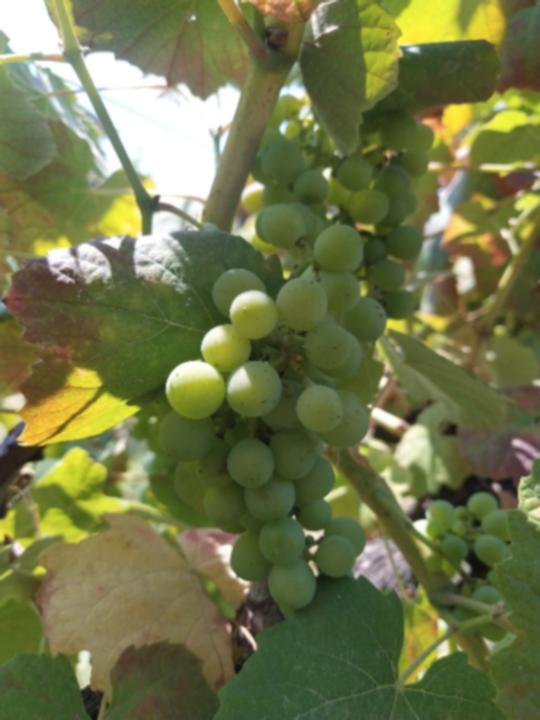grape: (162, 221, 390, 615)
